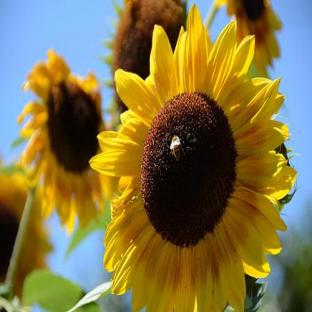sunflower: (89, 5, 297, 312)
